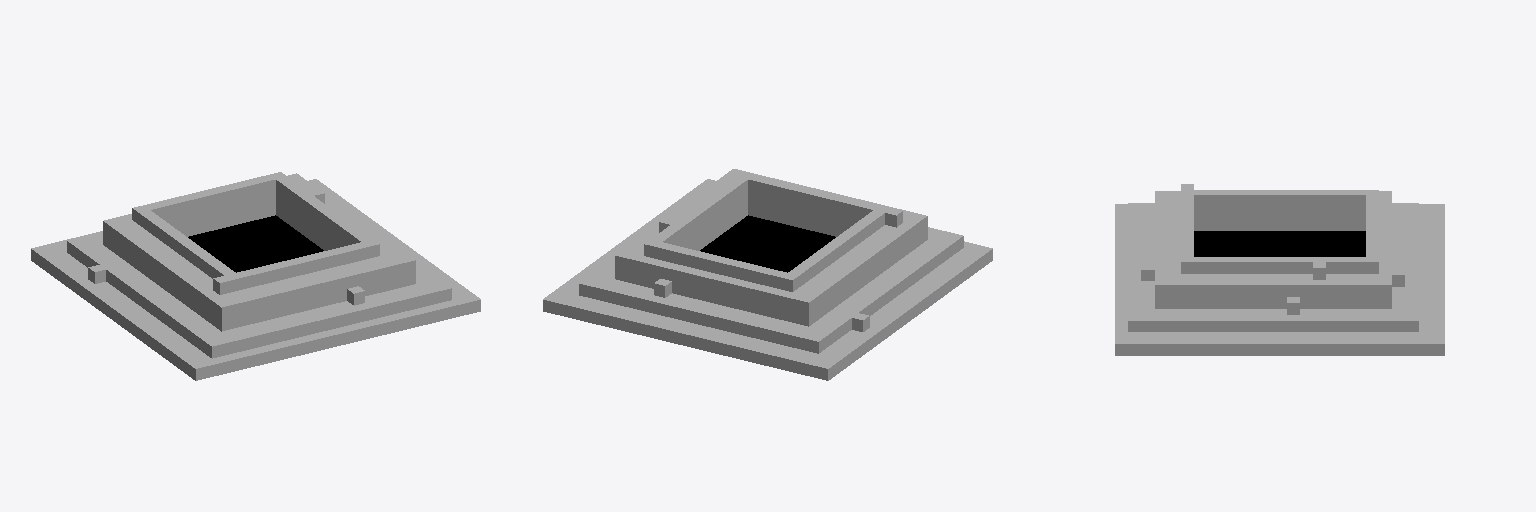
The picture shows the model from 3 angles: view 1: azimuth 30°, elevation 25°; view 2: azimuth 150°, elevation 25°; view 3: azimuth 270°, elevation 25°; orthographic projection.
Visible parts, largest first — view 1: object 1; view 2: object 1; view 3: object 1.
Boxes of the visible parts, x1,y1,x2,y2 form: object 1: [31, 172, 480, 380]; object 1: [543, 169, 992, 380]; object 1: [1115, 184, 1444, 355].
Size of the model in its own units: 2.5 by 0.5 by 2.5.
Materials: 1 (1 with a texture image).